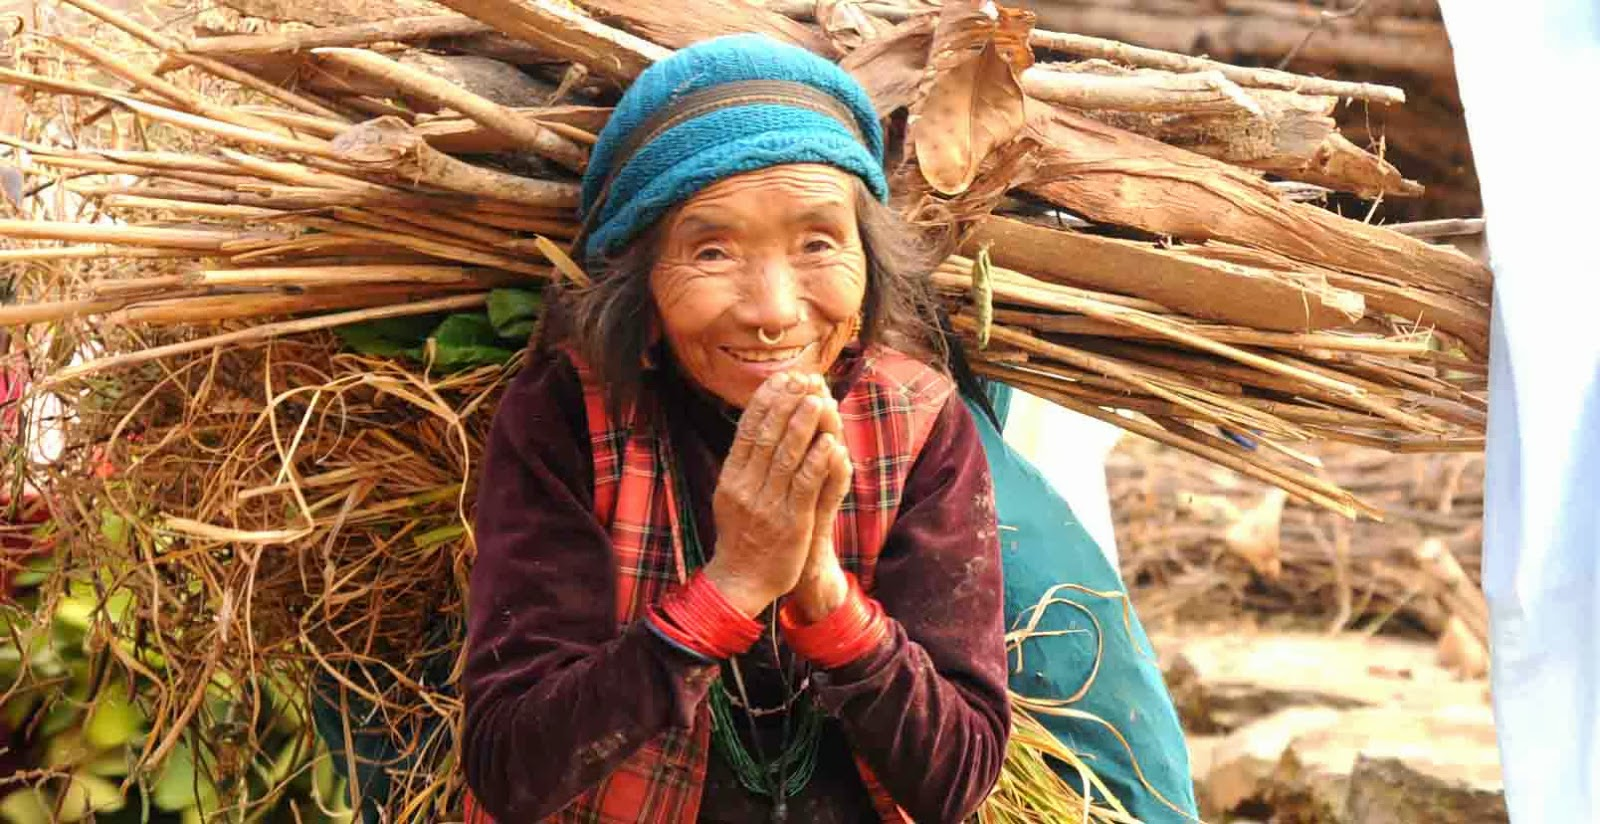human: (440, 29, 1082, 824)
